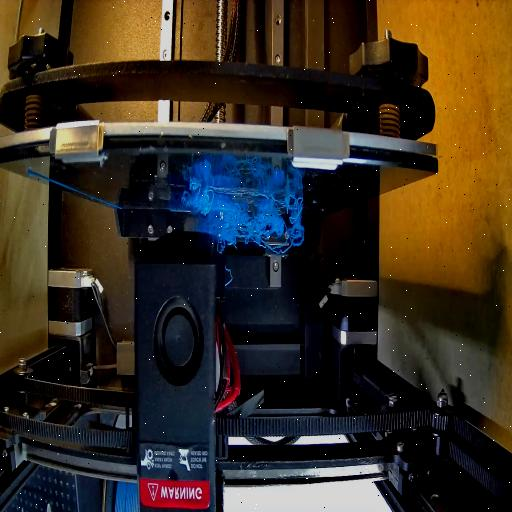spaghetti: (186, 182, 302, 244)
